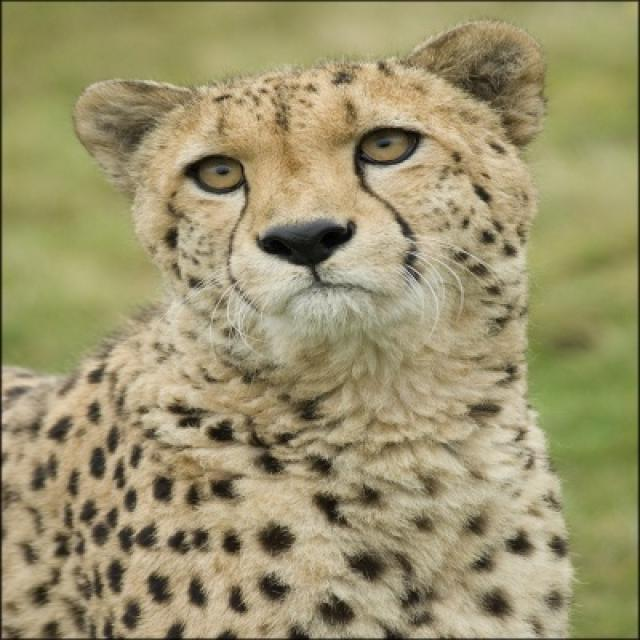Cheetah: (0, 21, 574, 638)
